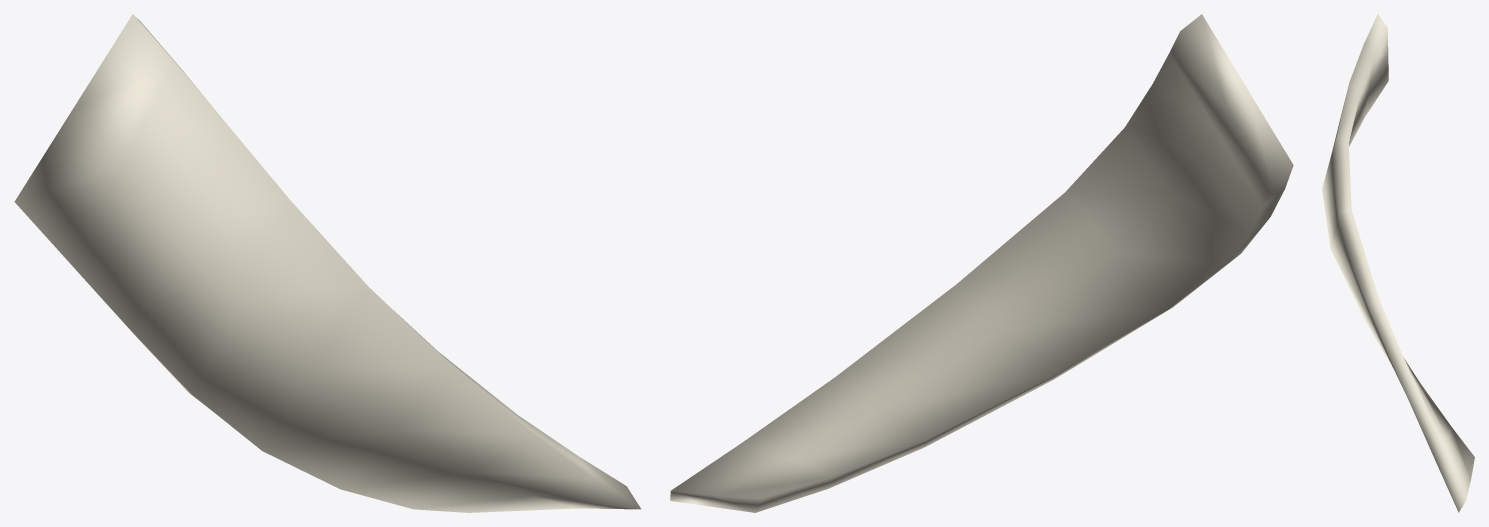
3 renders of one model, left to right at view 1: azimuth 30°, elevation 25°; view 2: azimuth 150°, elevation 25°; view 3: azimuth 270°, elevation 25°, orthographic. The views are drawn at different scales.
Parts seen in each view (by area): view 1: ZA_ba409702cebf711b; view 2: ZA_ba409702cebf711b; view 3: ZA_ba409702cebf711b.
Boxes of the visible parts, box(x1,y1,x2,y2) form: ZA_ba409702cebf711b: box(14, 14, 640, 512); ZA_ba409702cebf711b: box(670, 14, 1293, 512); ZA_ba409702cebf711b: box(1322, 14, 1474, 512).
Size of the model in its own units: 0.0226 by 0.0213 by 0.00837.
